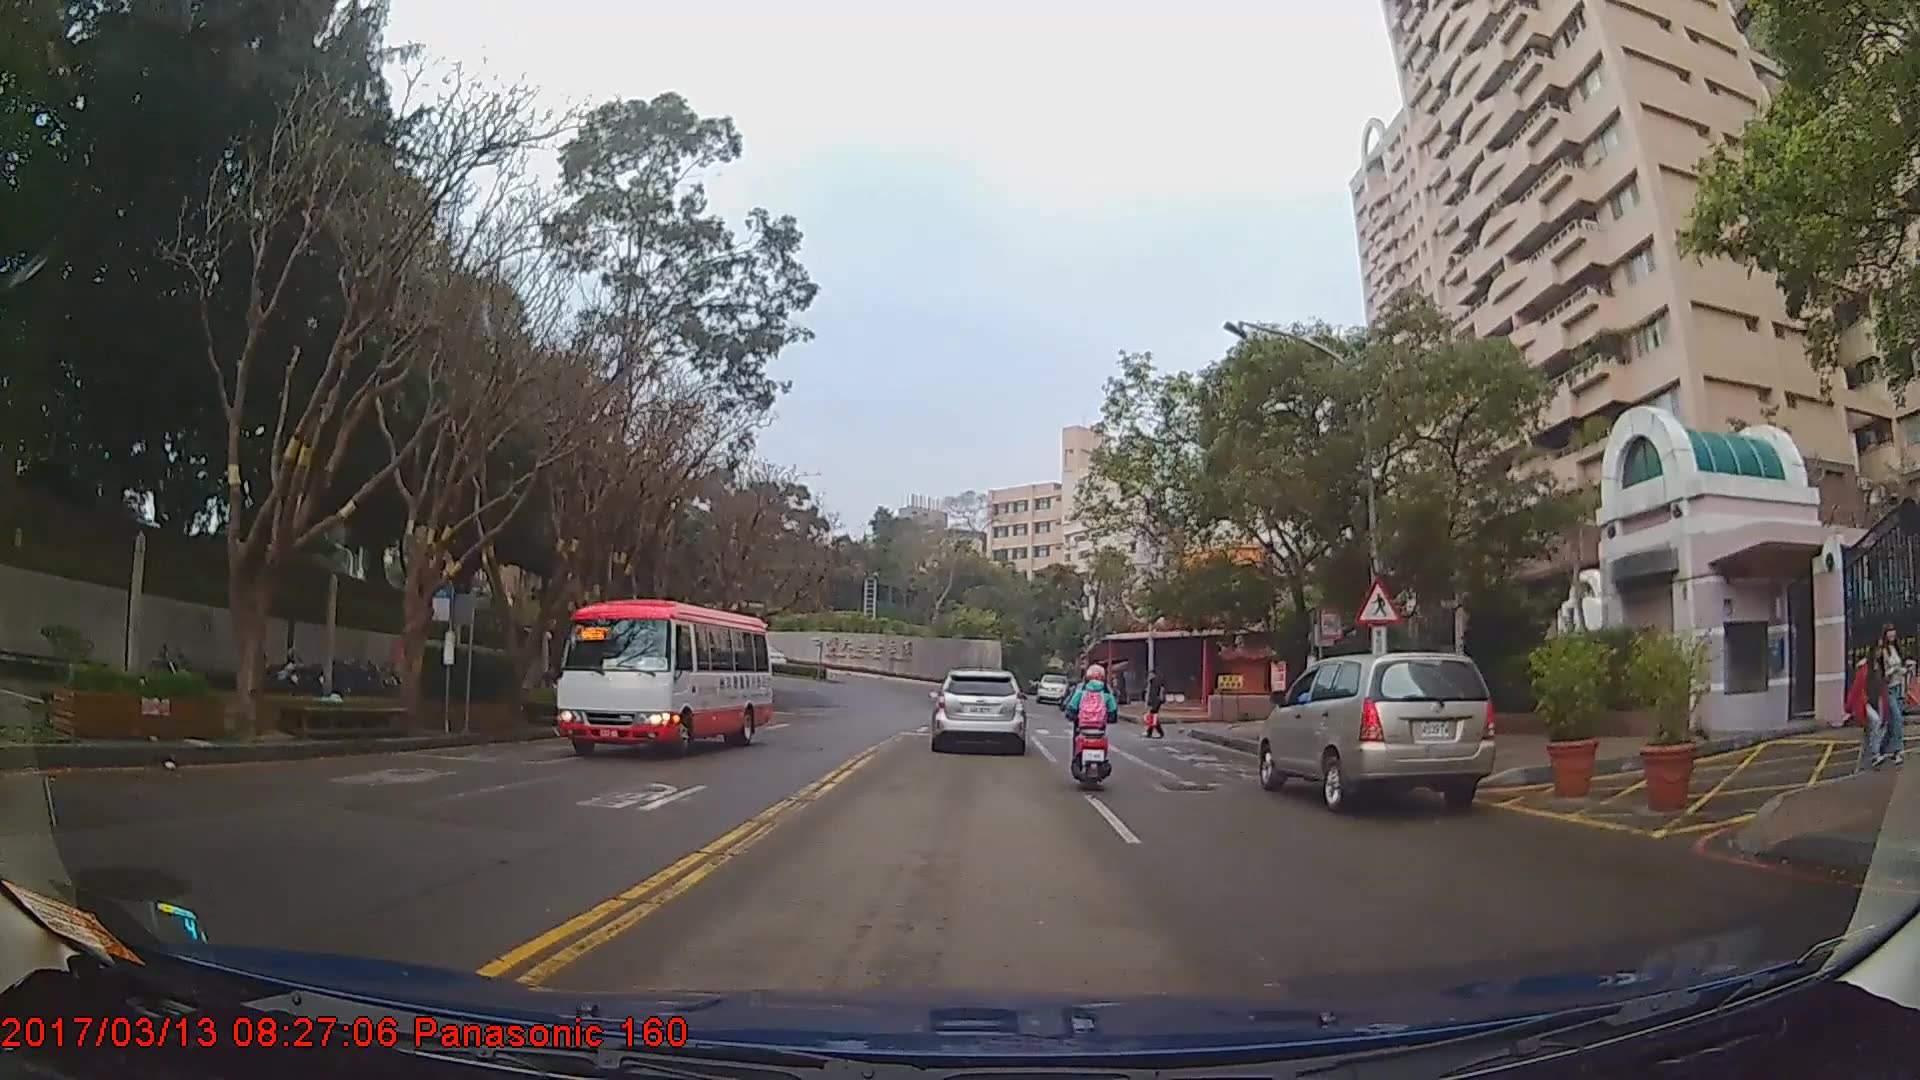pedestrian: (1837, 626, 1896, 790), (1869, 610, 1905, 779), (1142, 668, 1169, 744)
rider: (1065, 664, 1121, 794)
vehicle: (1258, 650, 1496, 812), (551, 599, 772, 757), (928, 667, 1027, 755), (1035, 673, 1069, 702)
